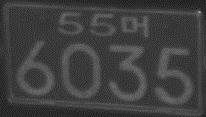0: (60, 42, 101, 99)
3: (107, 42, 147, 102)
5: (153, 46, 193, 106), (88, 13, 117, 37), (57, 11, 83, 35)
6: (14, 40, 55, 96)
머: (120, 14, 149, 39)
